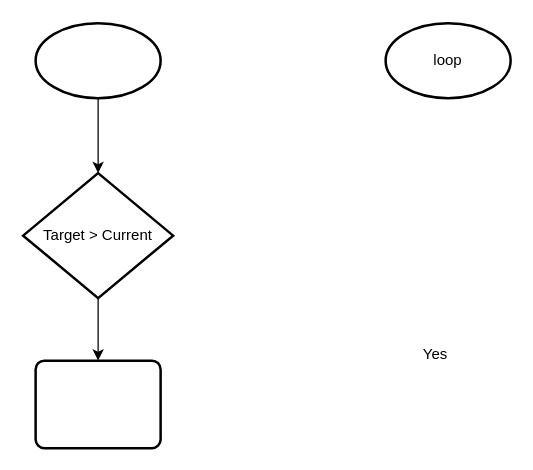
This 533x470 diagram has some shape labels left out. Each missing label, with the centre of its shape:
"set Moving = true" goes at (97,404).
"update" goes at (97,60).
